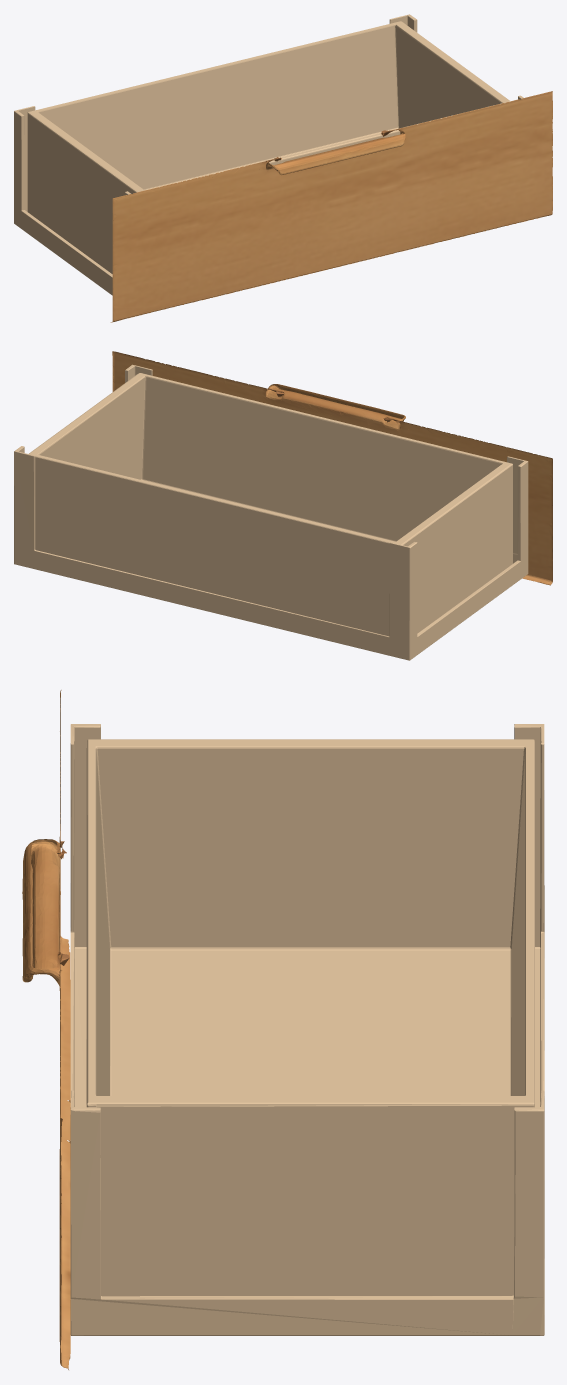
File: dresser-drawer-bottom.glb
The picture shows the model from 3 angles, top to bottom: view 1: azimuth 30°, elevation 25°; view 2: azimuth 150°, elevation 25°; view 3: azimuth 270°, elevation 25°; orthographic projection. The views are drawn at different scales.
Parts seen in each view (by area): view 1: source_front_cap_0, prefab_drawer_body_9; view 2: prefab_drawer_body_9, source_front_cap_0; view 3: prefab_drawer_body_9, source_front_cap_0.
Part boxes in pixels (x1=…): source_front_cap_0: x1=110, y1=91, x2=552, y2=322; prefab_drawer_body_9: x1=14, y1=14, x2=523, y2=295; prefab_drawer_body_9: x1=14, y1=364, x2=528, y2=660; source_front_cap_0: x1=112, y1=351, x2=552, y2=585; prefab_drawer_body_9: x1=70, y1=724, x2=544, y2=1335; source_front_cap_0: x1=22, y1=690, x2=70, y2=1369.
Size of the model in its own units: 0.8175 by 0.2231 by 0.4198.
2 materials, 1 textured.
